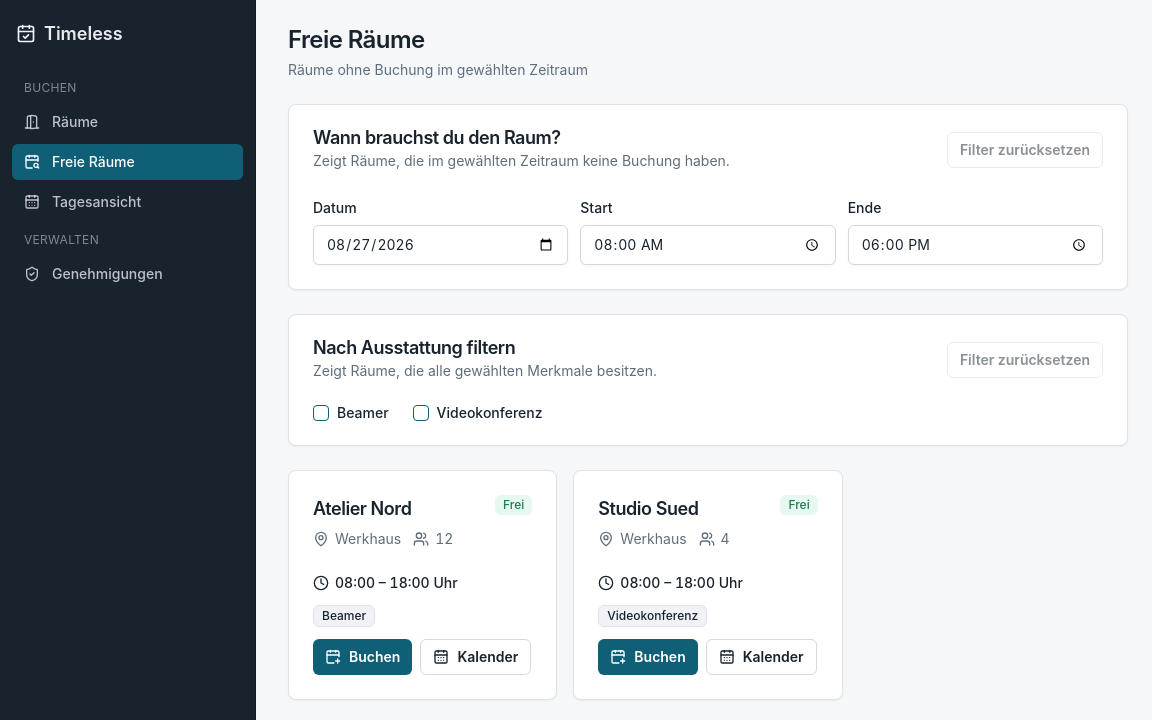
it: Freie-Räume-Suche – Buchungseinstieg aus dem Treffer › öffnet den Dialog mit Treffer-Raum und filterübernommenem Zeitraum, sendet genau diesen an POST /api/bookings und nimmt den Raum aus der aktualisierten Trefferl
Check: the element with test id "search-grid" is shown, box [288,470,843,700]
Check: the number of elements with test id "search-result-card" is 2, box [288,470,557,700]; [573,470,843,700]
Click the button "Buchen" below "12" at coordinates (363, 657), box [313,639,412,675]
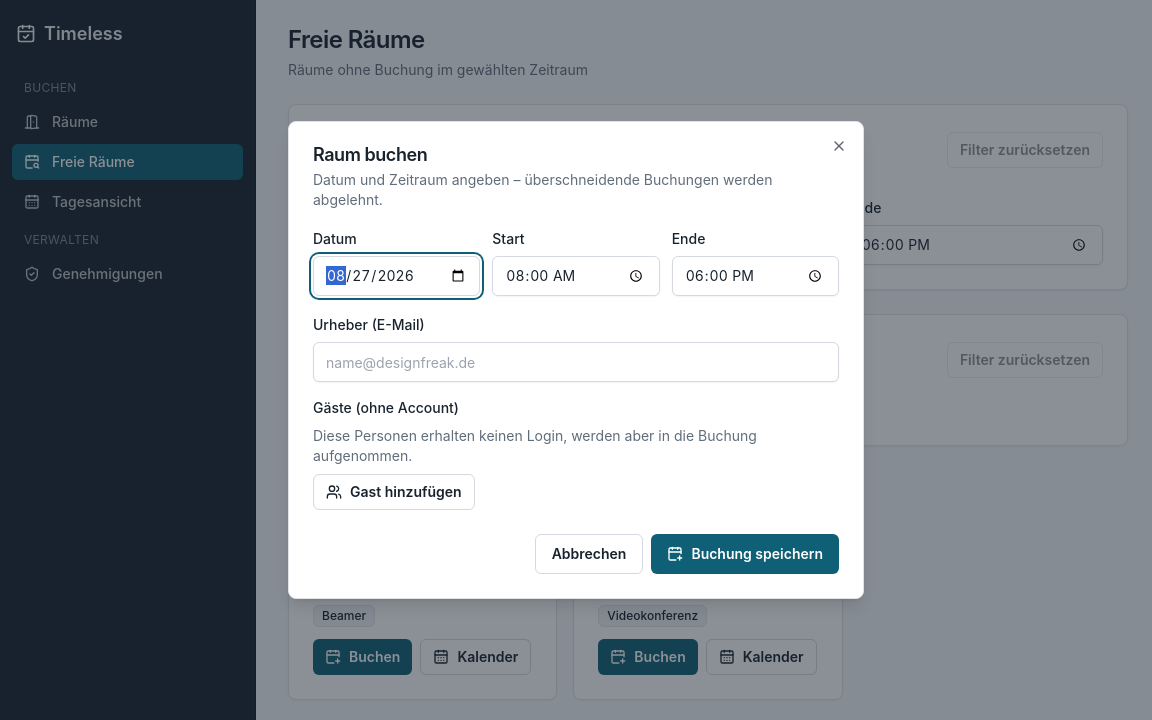
Check: the dialog with test id "booking-dialog" is shown, box [288,121,864,599]
Check: the form with test id "booking-form" is shown, box [313,226,839,574]
Check: the time field with test id "booking-start" holds "08:00", box [492,256,660,296]
Type "mitarbeiter@example.com" into the field with test id "booking-createdby" at coordinates (576, 362), box [313,342,839,382]
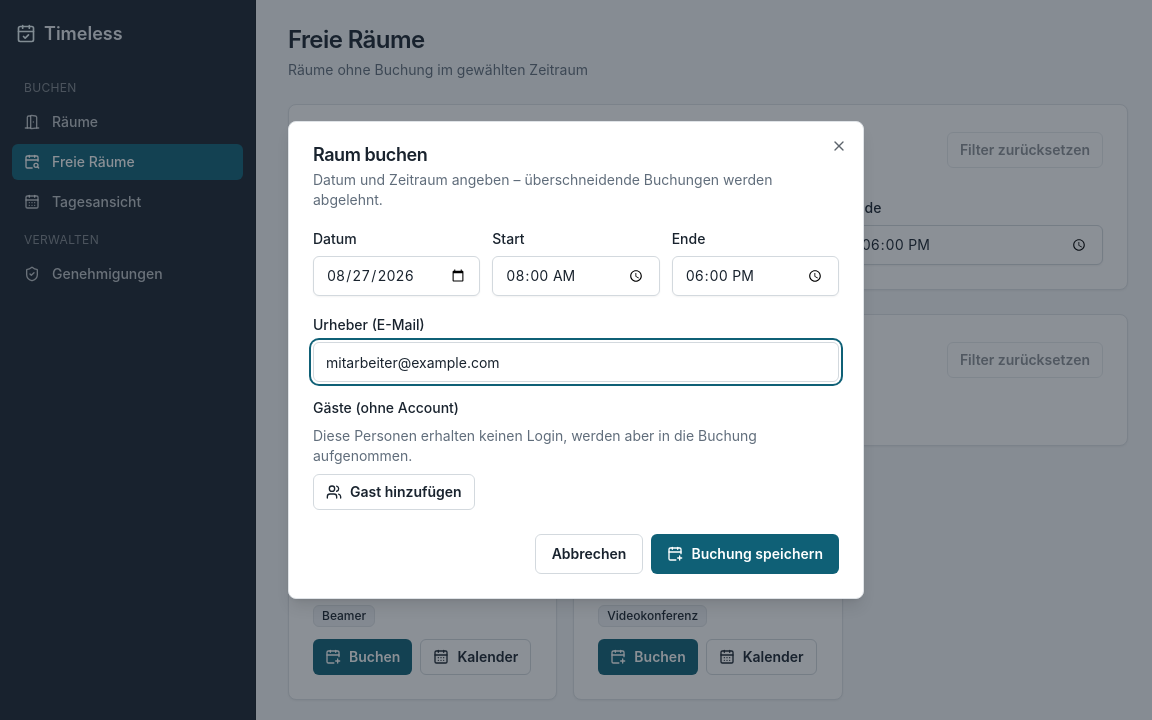
Click the button with test id "booking-submit" at coordinates (745, 554), box [651,534,839,574]
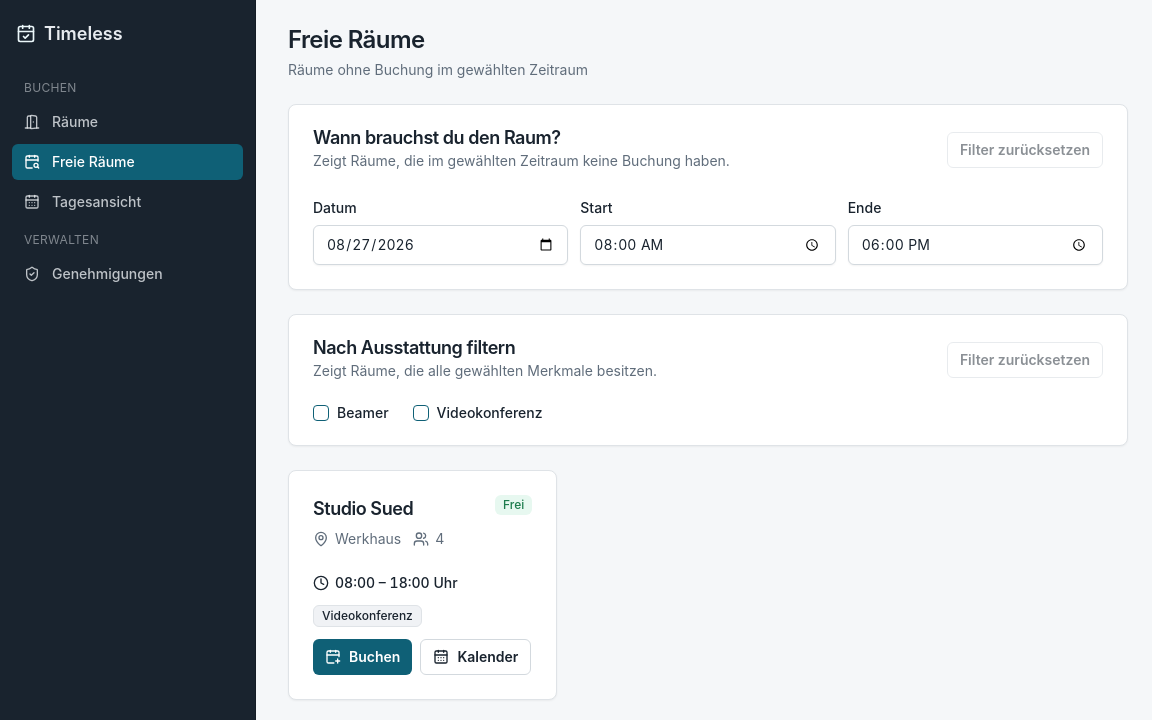
Check: the element with test id "search-grid" is shown, box [288,470,557,700]
Check: the dialog with test id "booking-dialog" is gone
